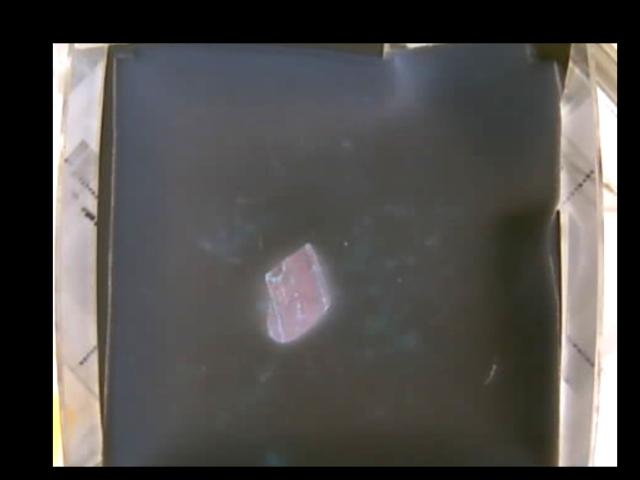China: (259, 244, 329, 344)
